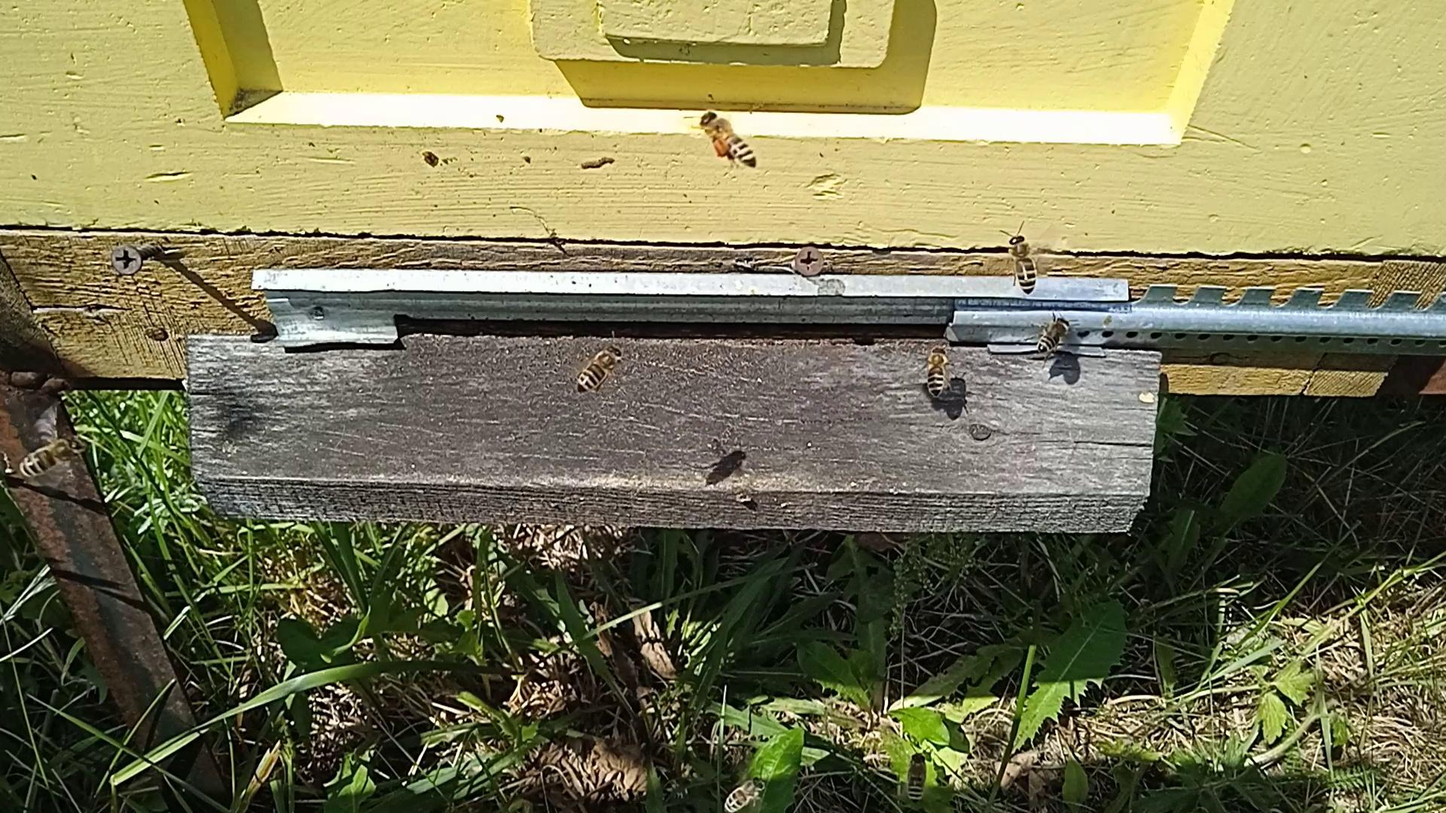worker-bee: (697, 110, 758, 166), (17, 436, 88, 480), (576, 345, 624, 392), (1006, 233, 1038, 297), (723, 778, 767, 812), (925, 344, 952, 397), (903, 752, 929, 805), (1037, 315, 1072, 352)
